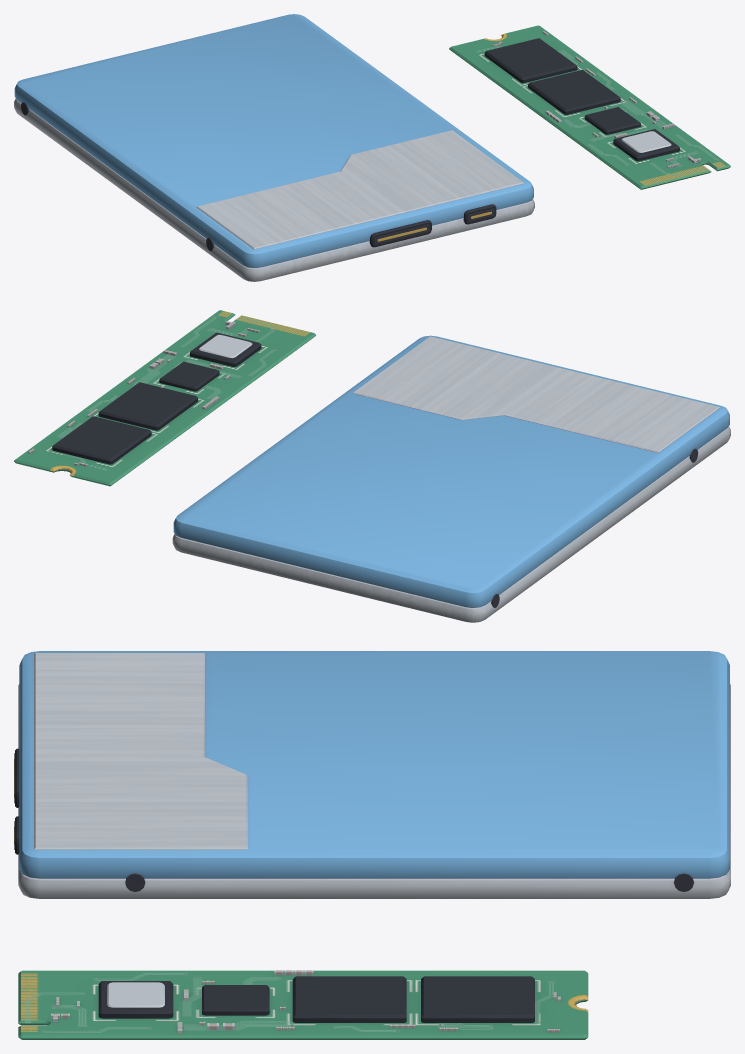
The model's file is storage.glb.
The picture shows the model from 3 angles, top to bottom: view 1: azimuth 30°, elevation 25°; view 2: azimuth 150°, elevation 25°; view 3: azimuth 270°, elevation 25°; orthographic projection. The views are drawn at different scales.
Parts seen in each view (by area): view 1: ssd_body; view 2: ssd_body; view 3: ssd_body.
Part boxes in pixels (bbox=[...]): ssd_body: bbox=[14, 14, 730, 281]; ssd_body: bbox=[14, 310, 730, 622]; ssd_body: bbox=[14, 651, 730, 1039].
Bounding box in the file's own units: 0.116 × 0.00725 × 0.1006.
1 material, 1 textured.
